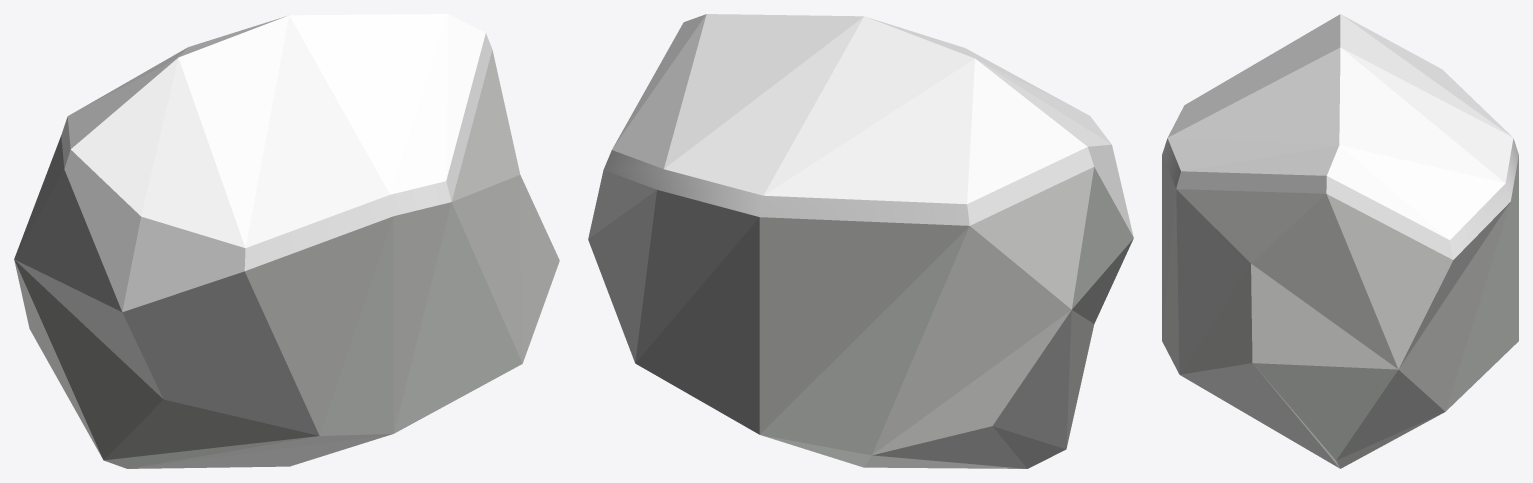
File: Rock_Light_Snow_3.fbx
3 renders of one model, left to right at view 1: azimuth 30°, elevation 25°; view 2: azimuth 150°, elevation 25°; view 3: azimuth 270°, elevation 25°, orthographic. The views are drawn at different scales.
Visible parts, largest first — view 1: Rock_Light_Snow_3; view 2: Rock_Light_Snow_3; view 3: Rock_Light_Snow_3.
Part boxes in pixels (box(x1,y1,x2,y2)): Rock_Light_Snow_3: box(14, 14, 559, 468); Rock_Light_Snow_3: box(588, 14, 1133, 468); Rock_Light_Snow_3: box(1162, 14, 1518, 468).
Bounding box in the file's own units: 2.32 × 2.07 × 1.73.
